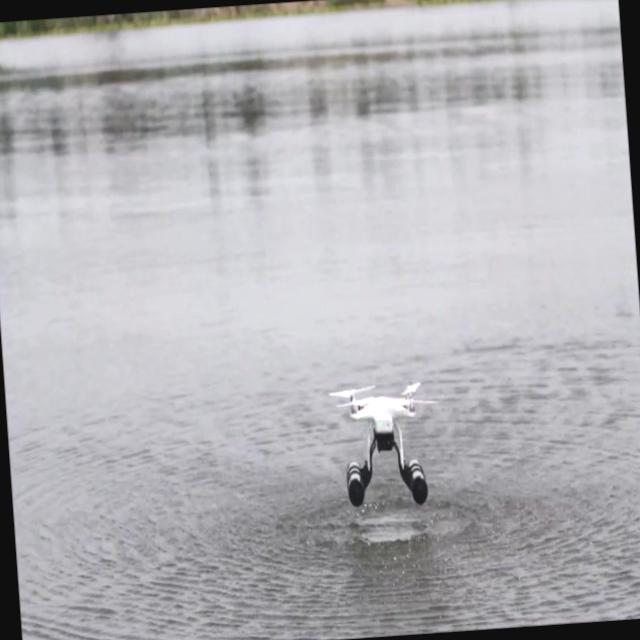drone: (333, 376, 440, 514)
